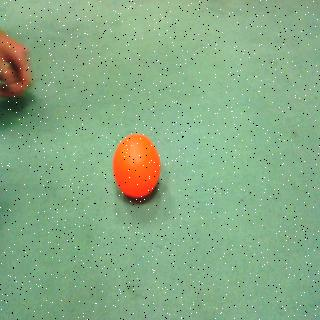orange: (112, 132, 161, 203)
